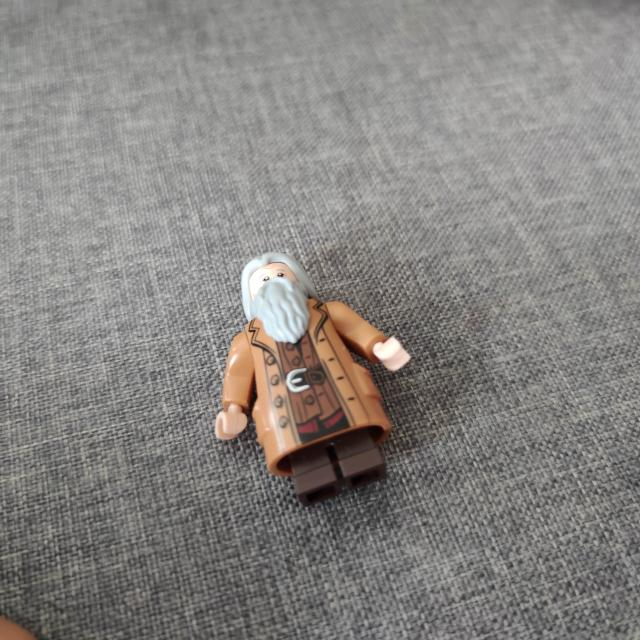lego: (210, 252, 410, 505)
